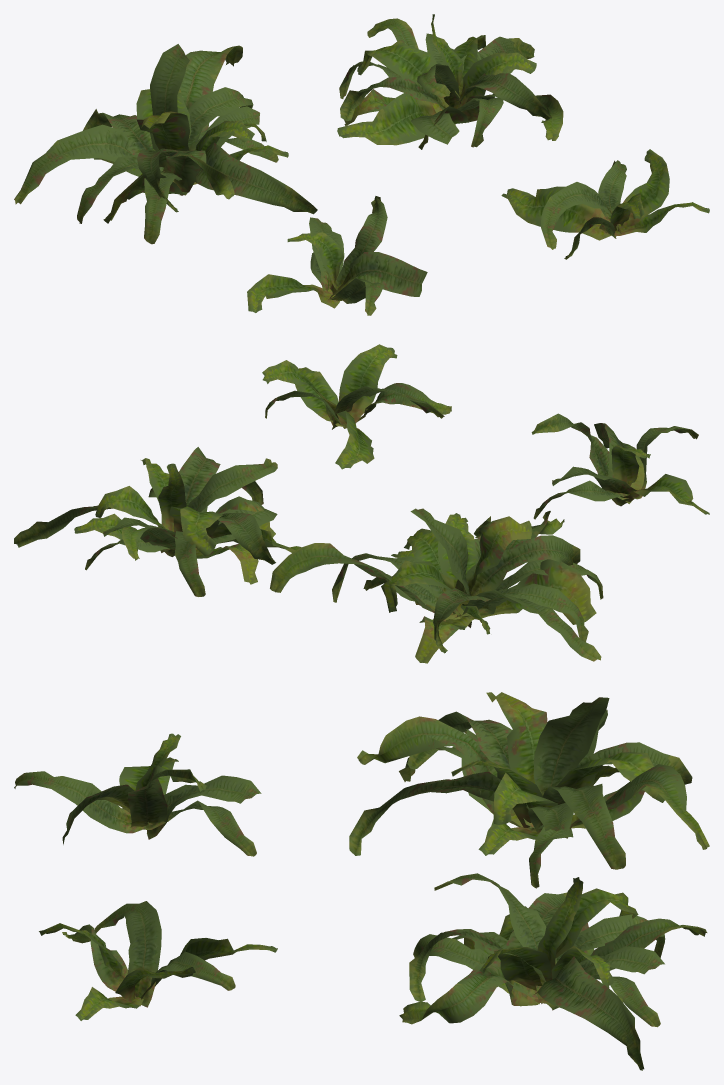
Rendered from fern-06cb276c.glb.
The picture shows the model from 3 angles, top to bottom: view 1: azimuth 30°, elevation 25°; view 2: azimuth 150°, elevation 25°; view 3: azimuth 270°, elevation 25°; orthographic projection. The views are drawn at different scales.
Parts seen in each view (by area): view 1: fern_02_b, fern_02_c, fern_02_d, fern_02_a; view 2: fern_02_b, fern_02_c, fern_02_d, fern_02_a; view 3: fern_02_b, fern_02_c, fern_02_a, fern_02_d.
Part boxes in pixels (bbox=[...]): fern_02_b: bbox=[14, 44, 317, 244]; fern_02_c: bbox=[337, 14, 563, 149]; fern_02_d: bbox=[501, 149, 709, 259]; fern_02_a: bbox=[247, 196, 427, 315]; fern_02_b: bbox=[270, 508, 603, 663]; fern_02_c: bbox=[14, 447, 300, 596]; fern_02_d: bbox=[262, 344, 451, 469]; fern_02_a: bbox=[531, 413, 709, 519]; fern_02_b: bbox=[349, 692, 709, 888]; fern_02_c: bbox=[399, 873, 707, 1070]; fern_02_a: bbox=[14, 733, 261, 856]; fern_02_d: bbox=[39, 901, 277, 1020].
Bounding box in the file's own units: 1.97 × 0.4277 × 1.72.
Materials: 1 (1 with a texture image).
